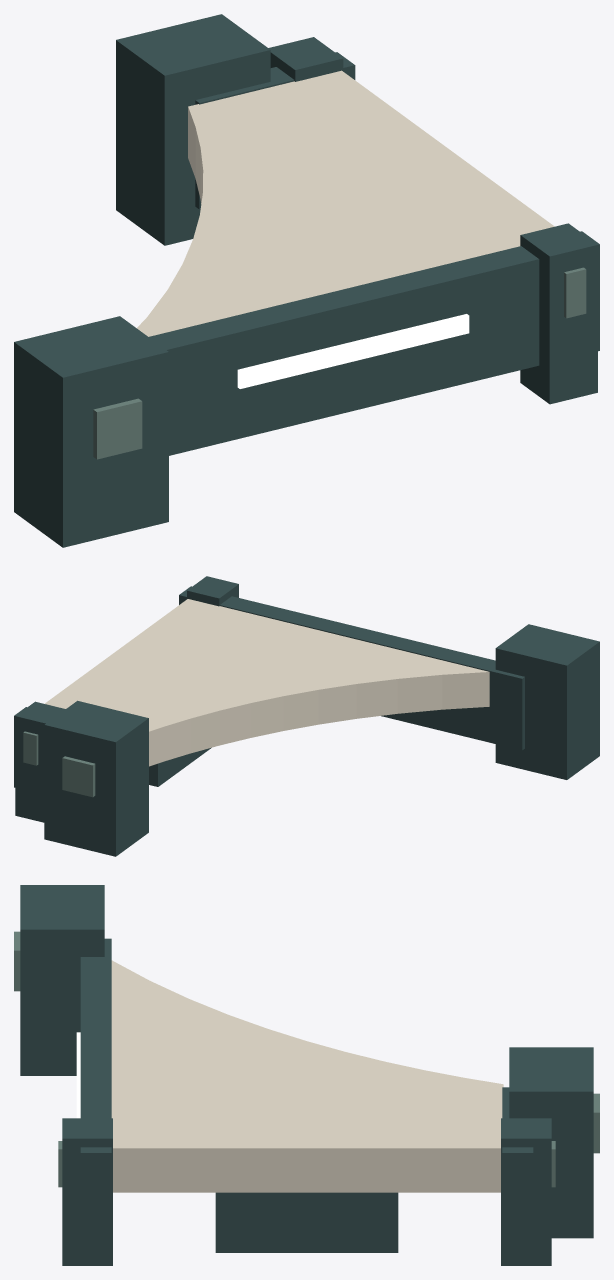
Rendered from Pier_Angled_35_lab.glb.
3 views of the same model, one above another, from view 1: azimuth 30°, elevation 25°; view 2: azimuth 150°, elevation 25°; view 3: azimuth 270°, elevation 25° (orthographic). The views are drawn at different scales.
Visible parts, largest first — view 1: Pier_Angled_35; view 2: Pier_Angled_35; view 3: Pier_Angled_35.
Boxes of the visible parts, box(x1,y1,x2,y2) form: Pier_Angled_35: box(14, 14, 599, 547); Pier_Angled_35: box(14, 576, 599, 856); Pier_Angled_35: box(14, 885, 599, 1265).
Size of the model in its own units: 4.05 by 1.15 by 4.17.
